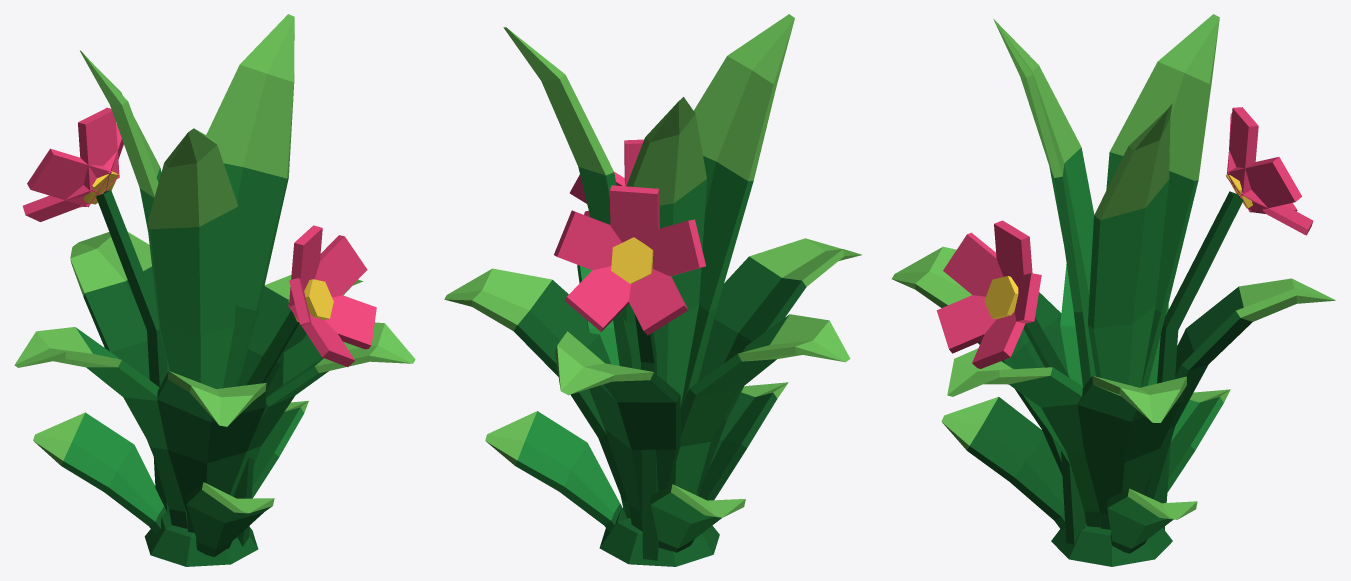
File: tuft_jungle.glb
3 views of the same model, side by side, from view 1: azimuth 30°, elevation 25°; view 2: azimuth 150°, elevation 25°; view 3: azimuth 270°, elevation 25° (orthographic). The views are drawn at different scales.
Parts seen in each view (by area): view 1: Grass__1E8C3A, Grass__68C454, Grass__126028, SmoothPlastic__F04078, SmoothPlastic__FFD63C; view 2: Grass__68C454, Grass__126028, Grass__1E8C3A, SmoothPlastic__F04078, SmoothPlastic__FFD63C; view 3: Grass__1E8C3A, Grass__126028, Grass__68C454, SmoothPlastic__F04078, SmoothPlastic__FFD63C.
Part boxes in pixels (left/top/right/bottom): Grass__1E8C3A: left=61, top=163, right=328, bottom=525; Grass__68C454: left=14, top=14, right=415, bottom=513; Grass__126028: left=83, top=190, right=308, bottom=566; SmoothPlastic__F04078: left=22, top=107, right=376, bottom=366; SmoothPlastic__FFD63C: left=83, top=171, right=333, bottom=321; Grass__68C454: left=444, top=14, right=861, bottom=517; Grass__126028: left=513, top=256, right=806, bottom=566; Grass__1E8C3A: left=515, top=156, right=789, bottom=548; SmoothPlastic__F04078: left=554, top=139, right=705, bottom=335; SmoothPlastic__FFD63C: left=611, top=237, right=653, bottom=283; Grass__1E8C3A: left=1001, top=147, right=1223, bottom=548; Grass__126028: left=967, top=191, right=1252, bottom=566; Grass__68C454: left=892, top=14, right=1335, bottom=519; SmoothPlastic__F04078: left=936, top=107, right=1313, bottom=368; SmoothPlastic__FFD63C: left=984, top=174, right=1252, bottom=319.
Size of the model in its own units: 7.13 by 8.98 by 7.29.
